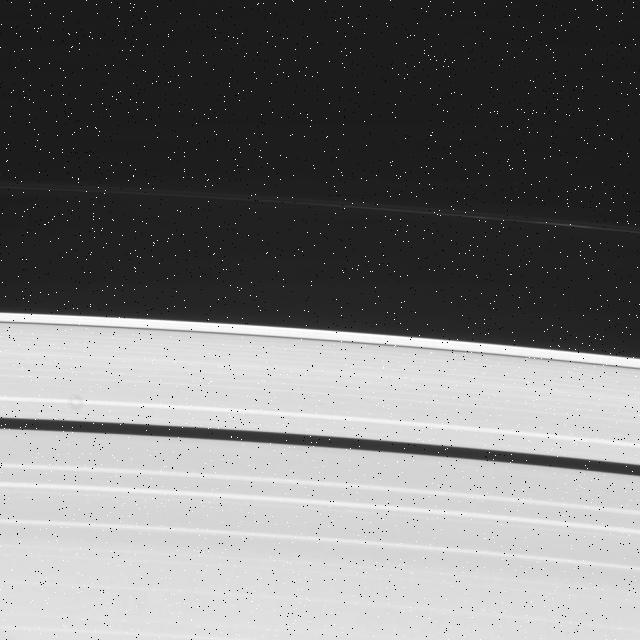Saturn: (0, 179, 640, 640)
